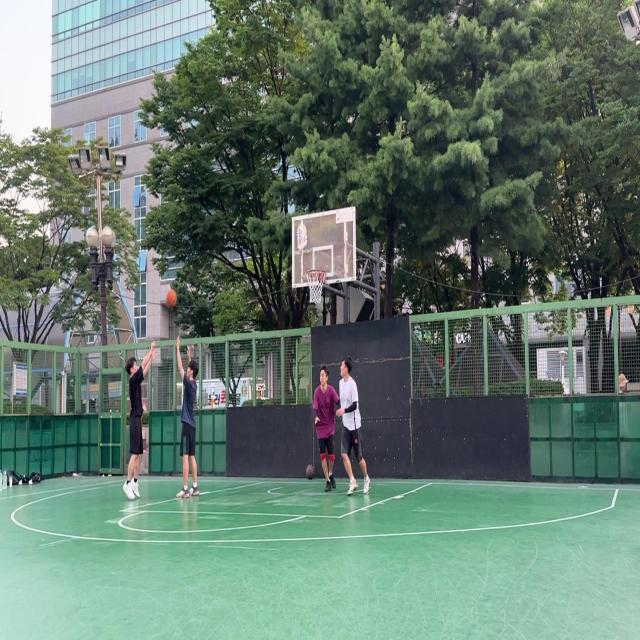basketball: (166, 290, 176, 308)
hoop: (305, 269, 326, 302)
